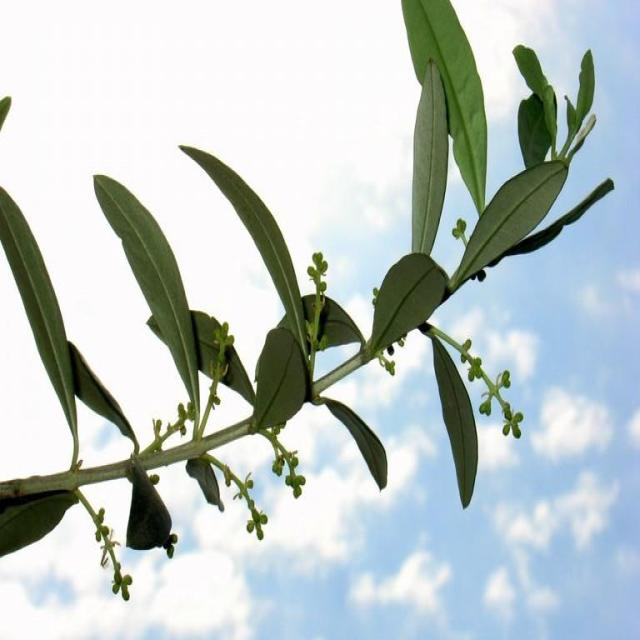Healthy: (181, 145, 306, 354), (94, 175, 198, 404), (0, 188, 78, 461), (443, 160, 568, 299), (362, 254, 448, 361), (432, 338, 478, 508), (412, 61, 448, 254), (252, 324, 310, 428)
